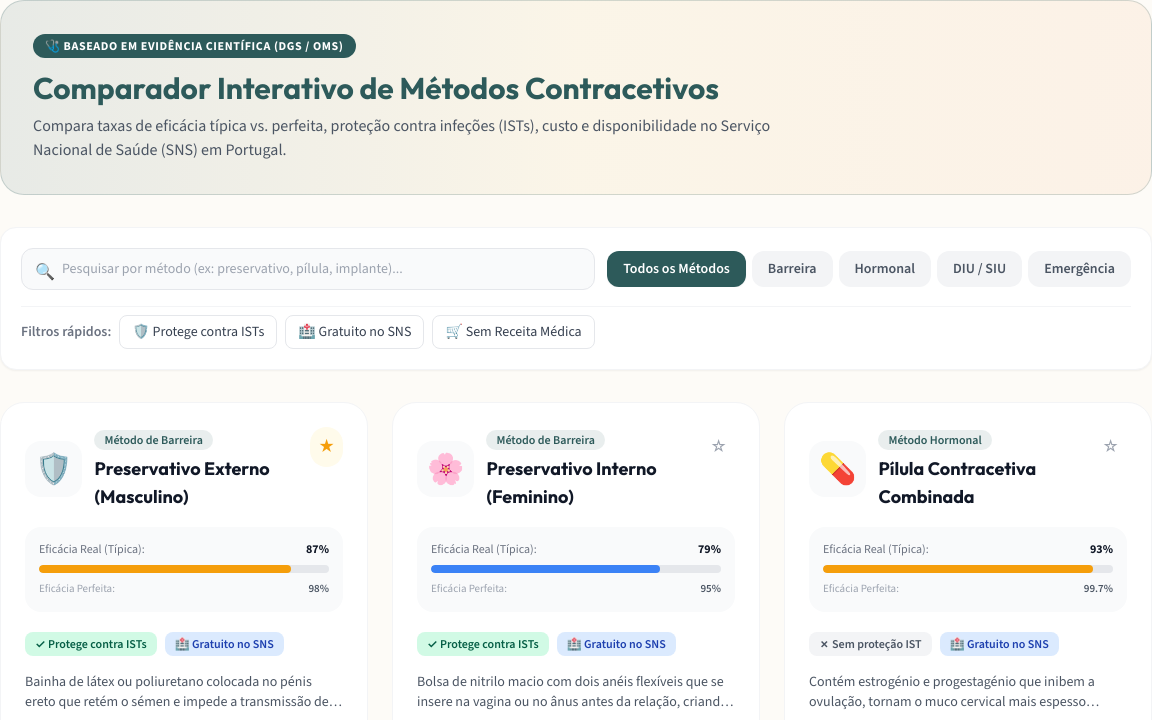
Test: ContraceptiveComparator › filters methods by STI protection toggle
The image size is (1152, 720).
Click the button "🛡️ Protege contra ISTs" at {"x": 198, "y": 332}, box [119,315,277,349]
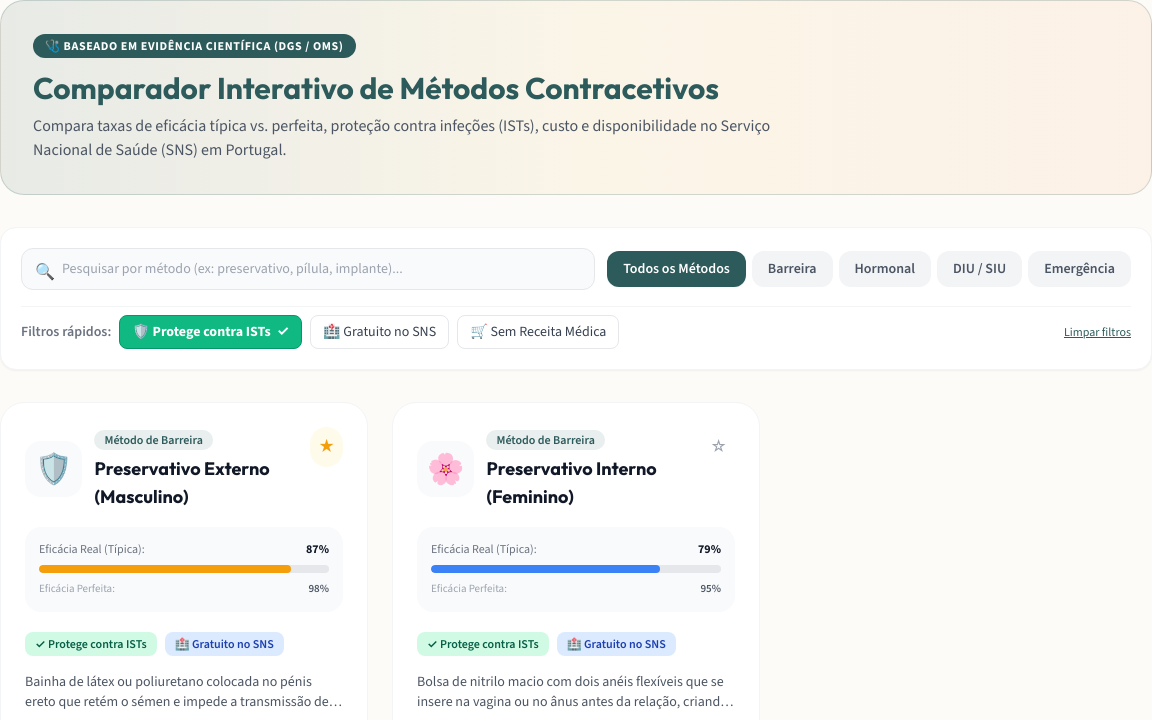
Expected: the heading "Preservativo Externo (Masculino)" is shown, [94,455,298,511]
Expected: the heading "Pílula Contracetiva Combinada" is gone
